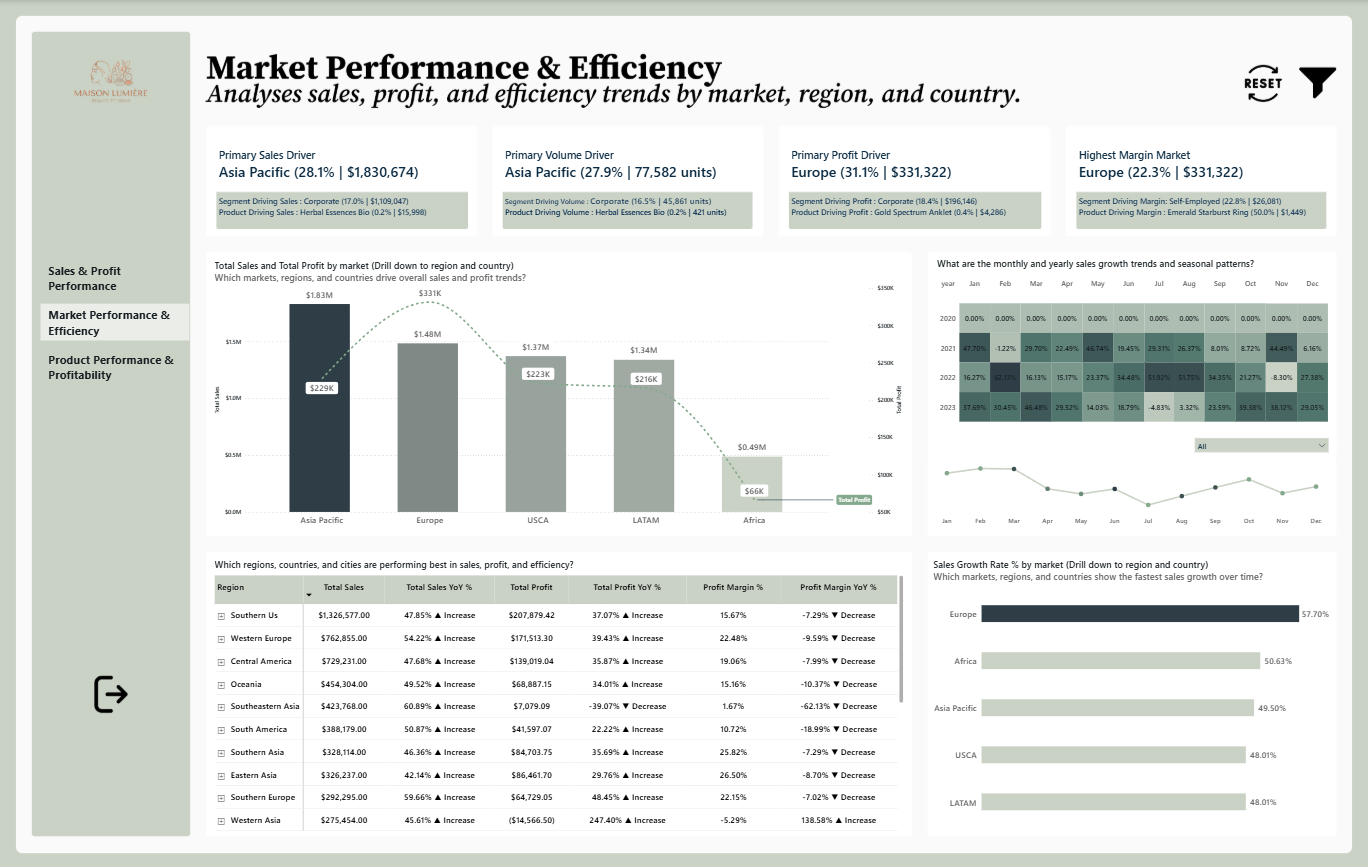

The dashboard page shown, as its layout file describes it:
{"tool":"powerbi","page":{"name":"Market Performance & Efficiency","canvas":[2588,1643],"ordinal":1},"visuals":[{"type":"cardVisual","fields":{"Data":["Geographic KPIs.Top Region (Sales %)"]},"box":[390.1,236,514.3,216.2],"z":0},{"type":"cardVisual","fields":{"Data":["Geographic KPIs.Primary Profit Driver (Region)"]},"box":[1473.4,236,516.8,216.2],"z":1000},{"type":"cardVisual","fields":{"Data":["Geographic KPIs.Primary Volume Driver (Region)"]},"box":[931.7,236,511.8,216.2],"z":2000},{"type":"cardVisual","fields":{"Data":["Geographic KPIs.Most Efficient Market (Region)"]},"box":[2017.5,236,511.8,216.2],"z":3000},{"type":"pivotTable","title":"What are the monthly and yearly sales growth trends and seasonal patterns?","fields":{"Rows":["DimDate.year"],"Columns":["DimDate.Month Short"],"Values":["Calculated Measures.Sales Growth Rate %"]},"box":[1756.7,474.6,772.7,347.9],"z":4000},{"type":"lineChart","fields":{"Category":["DimDate.Month Short"],"Y":["Calculated Measures.Sales Growth Rate %"]},"box":[1749.2,867.1,780.2,146.6],"z":5000},{"type":"lineClusteredColumnComboChart","title":"Total Sales and Total Profit by market (Drill down to region and country)","fields":{"Category":["DimGeography.market","DimGeography.region","DimGeography.country"],"Y":["Calculated Measures.Total Sales"],"Y2":["Calculated Measures.Total Profit"]},"box":[390.1,474.6,1334.3,539.2],"z":6000},{"type":"clusteredBarChart","title":"Sales Growth Rate % by market (Drill down to region and country)","fields":{"Category":["DimGeography.market","DimGeography.region","DimGeography.country"],"Y":["Calculated Measures.Sales Growth Rate %"]},"box":[1750,1040,780,546.7],"z":7000},{"type":"pivotTable","title":"Which regions, countries, and cities are performing best in sales, profit, and efficiency?","fields":{"Rows":["DimGeography.region","FactSales.country","DimGeography.city"],"Values":["Calculated Measures.Total Sales","YOY & MOM.Total Sales YoY % + Indicator","Calculated Measures.Total Profit","YOY & MOM.Total Profit YoY % + Indicator","Calculated Measures.Profit Margin %","YOY & MOM.Profit Margin YoY % + Indicator"]},"box":[390.1,1041.1,1334.3,546.6],"z":8000},{"type":"slicer","fields":{"Values":["DimDate.year"]},"box":[2239.4,822.9,290.9,42.6],"z":9000},{"type":"actionButton","title":"Reset","box":[2337.5,115,100,85],"z":10000},{"type":"actionButton","title":"Slicer button","box":[2443.3,116.7,100,83.3],"z":11000},{"type":"actionButton","title":"Back","box":[155,1270,100,85],"z":13000},{"type":"pageNavigator","box":[61.5,475.3,298,269.6],"z":14000}]}

Visuals, with their boxes in screenshot pixels (x1, y1, x2, y2), scaled from the page's 2588x1643 canvas onto the 1368x867 screenshot:
cardVisual - Geographic KPIs.Top Region (Sales %): region(206, 125, 478, 239)
cardVisual - Geographic KPIs.Primary Profit Driver (Region): region(779, 125, 1052, 239)
cardVisual - Geographic KPIs.Primary Volume Driver (Region): region(492, 125, 763, 239)
cardVisual - Geographic KPIs.Most Efficient Market (Region): region(1066, 125, 1337, 239)
"What are the monthly and yearly sales growth trends and seasonal patterns?" pivotTable: region(929, 250, 1337, 434)
lineChart - DimDate.Month Short x Calculated Measures.Sales Growth Rate %: region(925, 458, 1337, 535)
"Total Sales and Total Profit by market (Drill down to region and country)" lineClusteredColumnComboChart: region(206, 250, 912, 535)
"Sales Growth Rate % by market (Drill down to region and country)" clusteredBarChart: region(925, 549, 1337, 837)
"Which regions, countries, and cities are performing best in sales, profit, and efficiency?" pivotTable: region(206, 549, 912, 838)
slicer - DimDate.year: region(1184, 434, 1338, 457)
"Reset" actionButton: region(1236, 61, 1288, 106)
"Slicer button" actionButton: region(1292, 62, 1344, 106)
"Back" actionButton: region(82, 670, 135, 715)
pageNavigator: region(33, 251, 190, 393)
